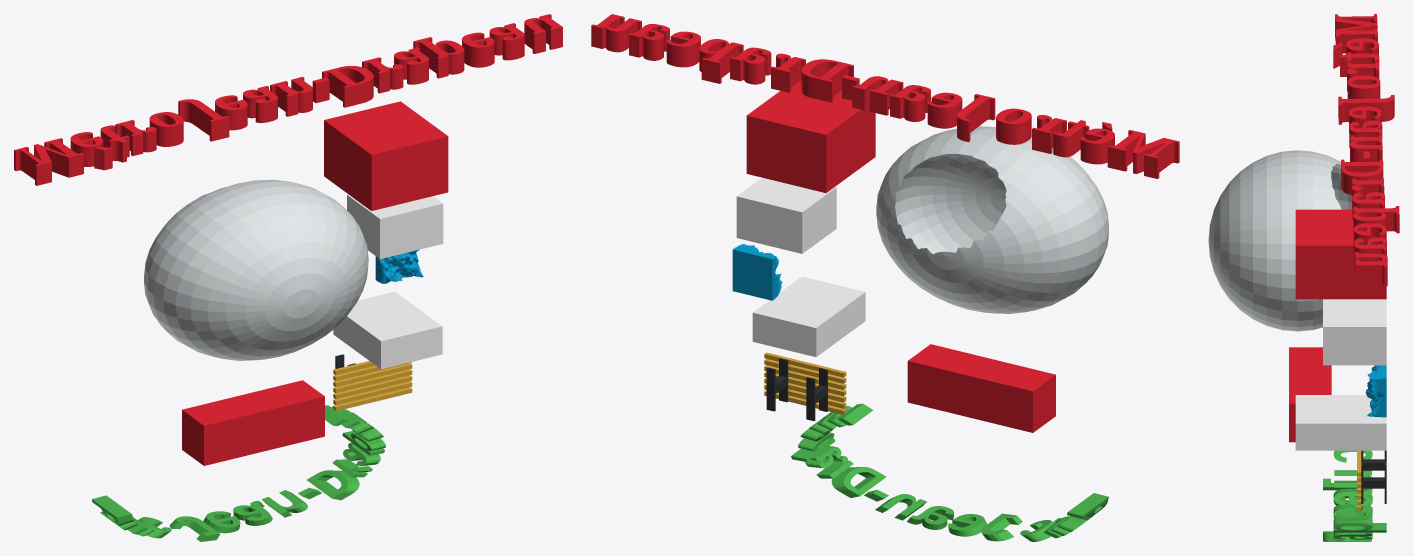
Rendered from tinker.obj.
3 renders of one model, left to right at view 1: azimuth 30°, elevation 25°; view 2: azimuth 150°, elevation 25°; view 3: azimuth 270°, elevation 25°, orthographic. The views are drawn at different scales.
Visible parts, largest first — view 1: group_0_15277357, group_0_14541540, group_0_16448250, group_0_4634441, group_0_14789940, group_0_40919; view 2: group_0_15277357, group_0_14541540, group_0_16448250, group_0_4634441, group_0_14789940, group_0_40919, group_0_2829873; view 3: group_0_15277357, group_0_14541540, group_0_16448250, group_0_4634441, group_0_40919, group_0_2829873, group_0_14789940.
Boxes of the visible parts, <box> form: group_0_15277357: <box>14,14,562,465</box>; group_0_14541540: <box>144,179,368,360</box>; group_0_16448250: <box>333,194,443,369</box>; group_0_4634441: <box>92,405,385,541</box>; group_0_14789940: <box>333,361,412,411</box>; group_0_40919: <box>375,249,423,283</box>; group_0_15277357: <box>591,14,1179,432</box>; group_0_14541540: <box>876,126,1108,313</box>; group_0_16448250: <box>736,177,865,356</box>; group_0_4634441: <box>791,403,1108,541</box>; group_0_14789940: <box>764,352,846,414</box>; group_0_40919: <box>732,244,782,300</box>; group_0_2829873: <box>766,358,827,420</box>; group_0_15277357: <box>1289,14,1399,442</box>; group_0_14541540: <box>1208,150,1352,331</box>; group_0_16448250: <box>1295,299,1386,450</box>; group_0_4634441: <box>1323,450,1386,541</box>; group_0_40919: <box>1365,365,1386,417</box>; group_0_2829873: <box>1361,450,1386,503</box>; group_0_14789940: <box>1357,450,1361,510</box>.
Size of the model in its own units: 282 by 206 by 90.
